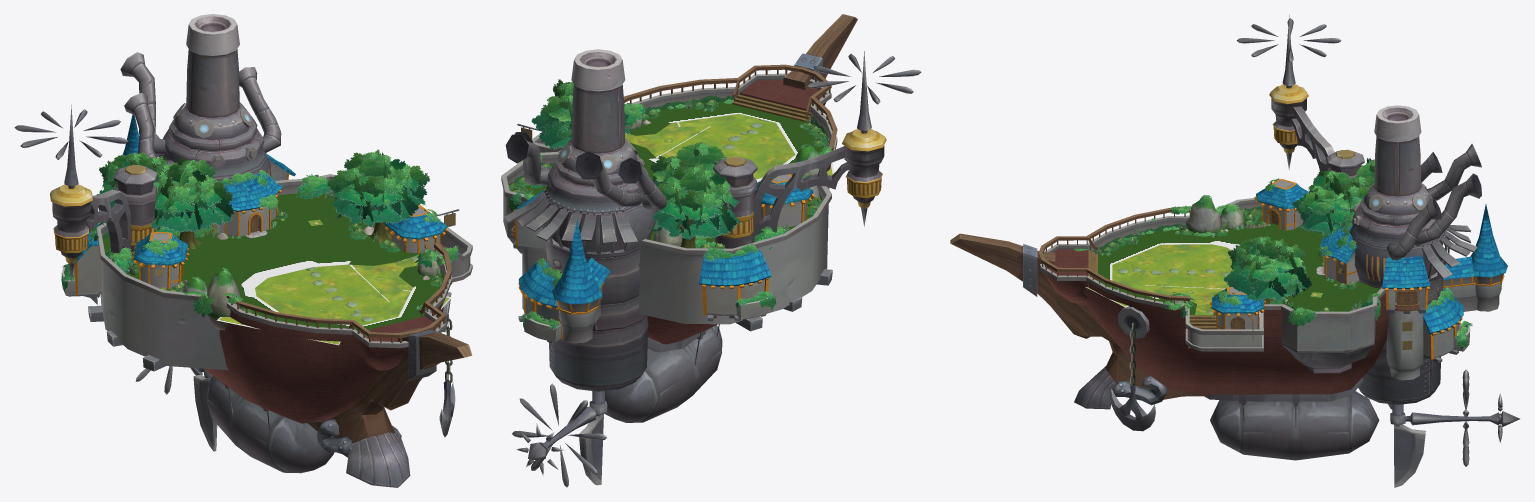
File: MainCity_FeiChuan_Mesh_01.FBX
3 renders of one model, left to right at view 1: azimuth 30°, elevation 25°; view 2: azimuth 150°, elevation 25°; view 3: azimuth 270°, elevation 25°, orthographic. The views are drawn at different scales.
Parts seen in each view (by area): view 1: TreeLeaf_G_Lobby, Wood1_BR_Lobby, Floor1_G_Lobby001, Wall2_W_Lobby, Banister_WaBR_Lobby, Matal7_BR_Lobby, Metal1_B_Lobby, Prop_BR_Lobby, Wood2_BR_Lobby, Matal8_BR_Lobby, Floor1_G_Lobby, Roof1_R_Lobby (+11 smaller); view 2: Matal8_BR_Lobby, Wall2_W_Lobby, TreeLeaf_G_Lobby, Matal7_BR_Lobby, Banister_WaBR_Lobby, Metal1_B_Lobby, Roof1_R_Lobby, Matal3_BR_Lobby, Matal4_BR_Lobby, Matal2_BR_Lobby, Floor1_G_Lobby001, Matal5_BR_Lobby (+11 smaller); view 3: Wood1_BR_Lobby, TreeLeaf_G_Lobby, Metal1_B_Lobby, Banister_WaBR_Lobby, Matal8_BR_Lobby, Roof1_R_Lobby, Floor1_G_Lobby001, Matal7_BR_Lobby, Wall3_W_Lobby, Wall2_W_Lobby, Wood2_BR_Lobby, Matal3_BR_Lobby (+11 smaller).
Part boxes in pixels (x1,y1,x2,y2): TreeLeaf_G_Lobby: [61, 149, 458, 336]; Wood1_BR_Lobby: [203, 243, 447, 423]; Floor1_G_Lobby001: [102, 193, 443, 331]; Wall2_W_Lobby: [61, 245, 470, 370]; Banister_WaBR_Lobby: [74, 162, 472, 348]; Matal7_BR_Lobby: [156, 14, 256, 168]; Metal1_B_Lobby: [207, 376, 333, 473]; Prop_BR_Lobby: [68, 206, 455, 487]; Wood2_BR_Lobby: [308, 328, 472, 443]; Matal8_BR_Lobby: [159, 103, 271, 224]; Floor1_G_Lobby: [255, 264, 388, 325]; Roof1_R_Lobby: [74, 114, 447, 265]; Matal8_BR_Lobby: [539, 139, 656, 391]; Wall2_W_Lobby: [503, 150, 828, 342]; TreeLeaf_G_Lobby: [508, 79, 832, 329]; Matal7_BR_Lobby: [504, 49, 644, 254]; Banister_WaBR_Lobby: [501, 64, 837, 338]; Metal1_B_Lobby: [605, 324, 722, 422]; Roof1_R_Lobby: [515, 181, 813, 307]; Matal3_BR_Lobby: [512, 51, 921, 487]; Matal4_BR_Lobby: [715, 128, 886, 248]; Matal2_BR_Lobby: [505, 132, 666, 211]; Floor1_G_Lobby001: [519, 101, 828, 247]; Matal5_BR_Lobby: [753, 146, 849, 242]; Wood1_BR_Lobby: [1044, 249, 1419, 394]; TreeLeaf_G_Lobby: [1073, 158, 1472, 349]; Metal1_B_Lobby: [1204, 377, 1379, 460]; Banister_WaBR_Lobby: [1038, 179, 1504, 359]; Matal8_BR_Lobby: [1349, 184, 1445, 404]; Roof1_R_Lobby: [1212, 183, 1507, 334]; Floor1_G_Lobby001: [1096, 210, 1380, 315]; Matal7_BR_Lobby: [1352, 105, 1477, 278]; Wall3_W_Lobby: [1217, 180, 1501, 380]; Wall2_W_Lobby: [1187, 310, 1470, 358]; Wood2_BR_Lobby: [950, 233, 1207, 399]; Matal3_BR_Lobby: [1236, 14, 1519, 487].
Bounding box in the file's own units: 3310 × 3343 × 4473.
